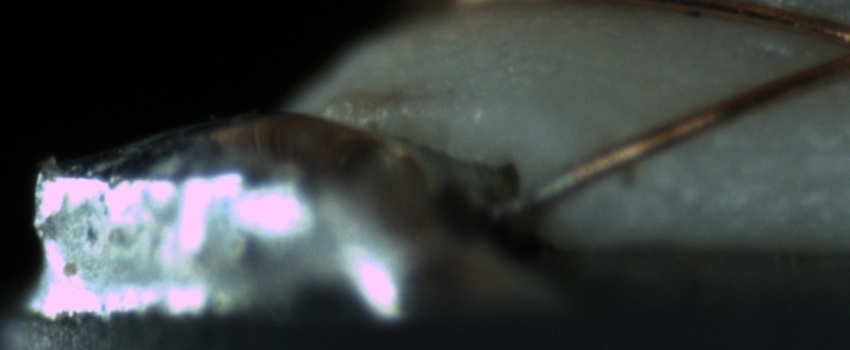TS: (485, 167, 582, 221)
